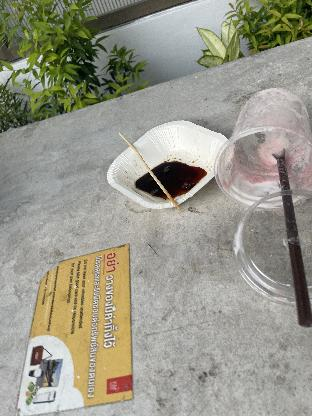Plastic Cup: (214, 84, 308, 212), (230, 187, 312, 311)
Styrofoam: (111, 119, 225, 210)
